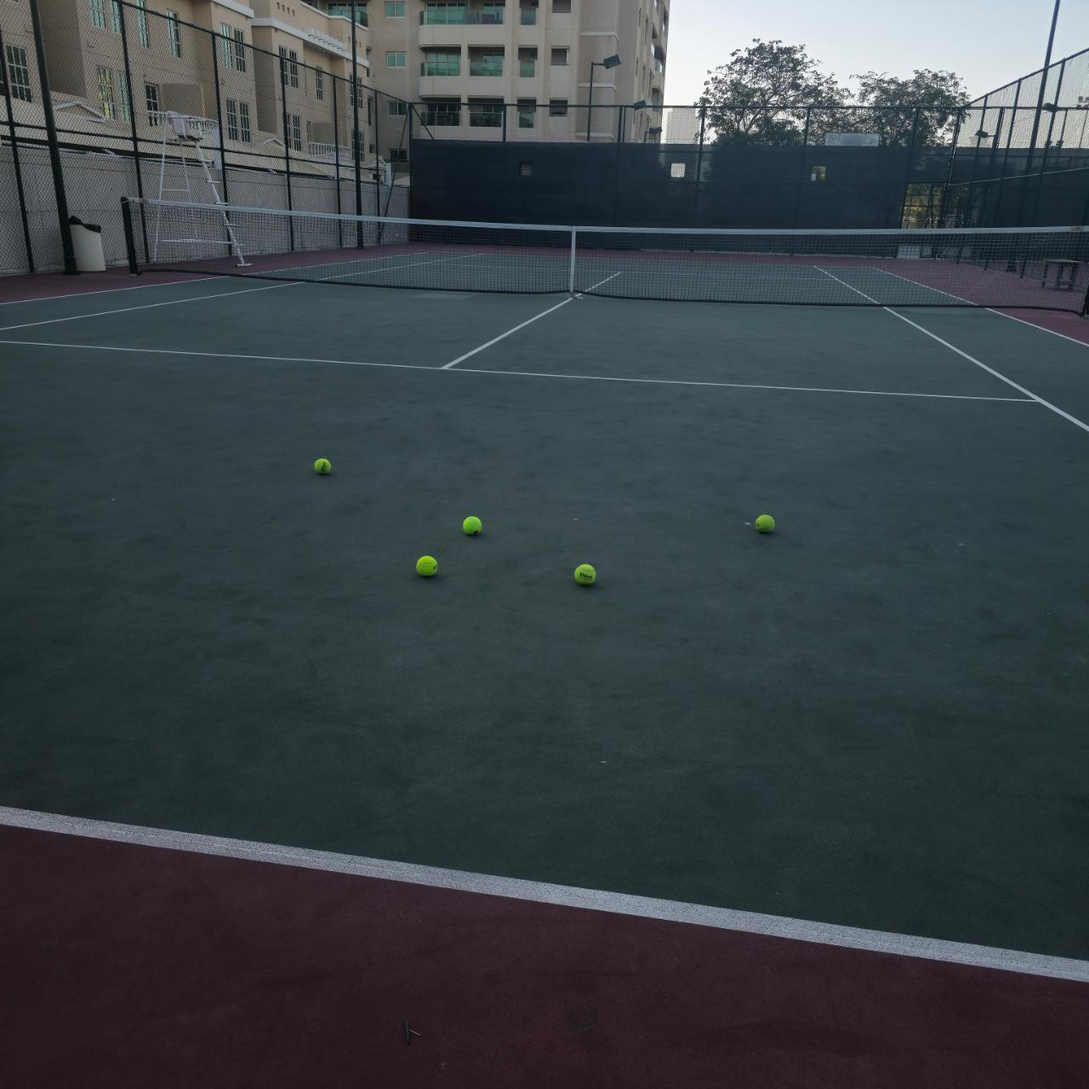tennis-ball: (413, 553, 438, 577), (574, 563, 597, 584), (754, 513, 775, 533), (461, 515, 482, 535), (312, 457, 331, 474)
